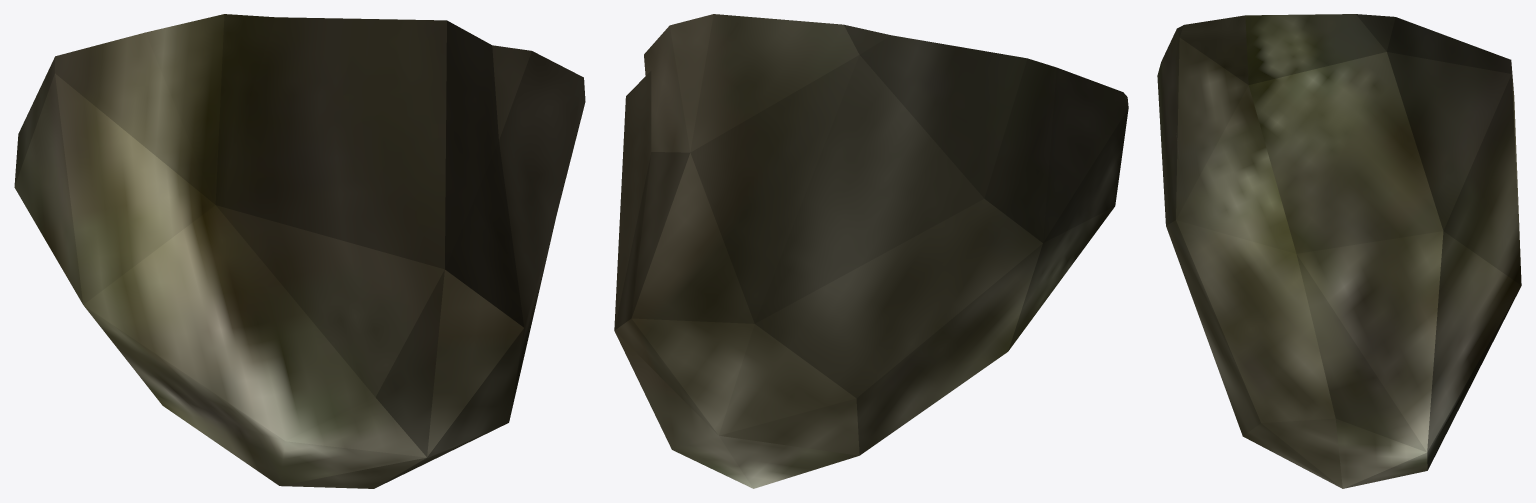
3 views of the same model, side by side, from view 1: azimuth 30°, elevation 25°; view 2: azimuth 150°, elevation 25°; view 3: azimuth 270°, elevation 25° (orthographic). The views are drawn at different scales.
Size of the model in its own units: 0.4235 by 0.3226 by 0.3313.
1 material, 1 textured.
